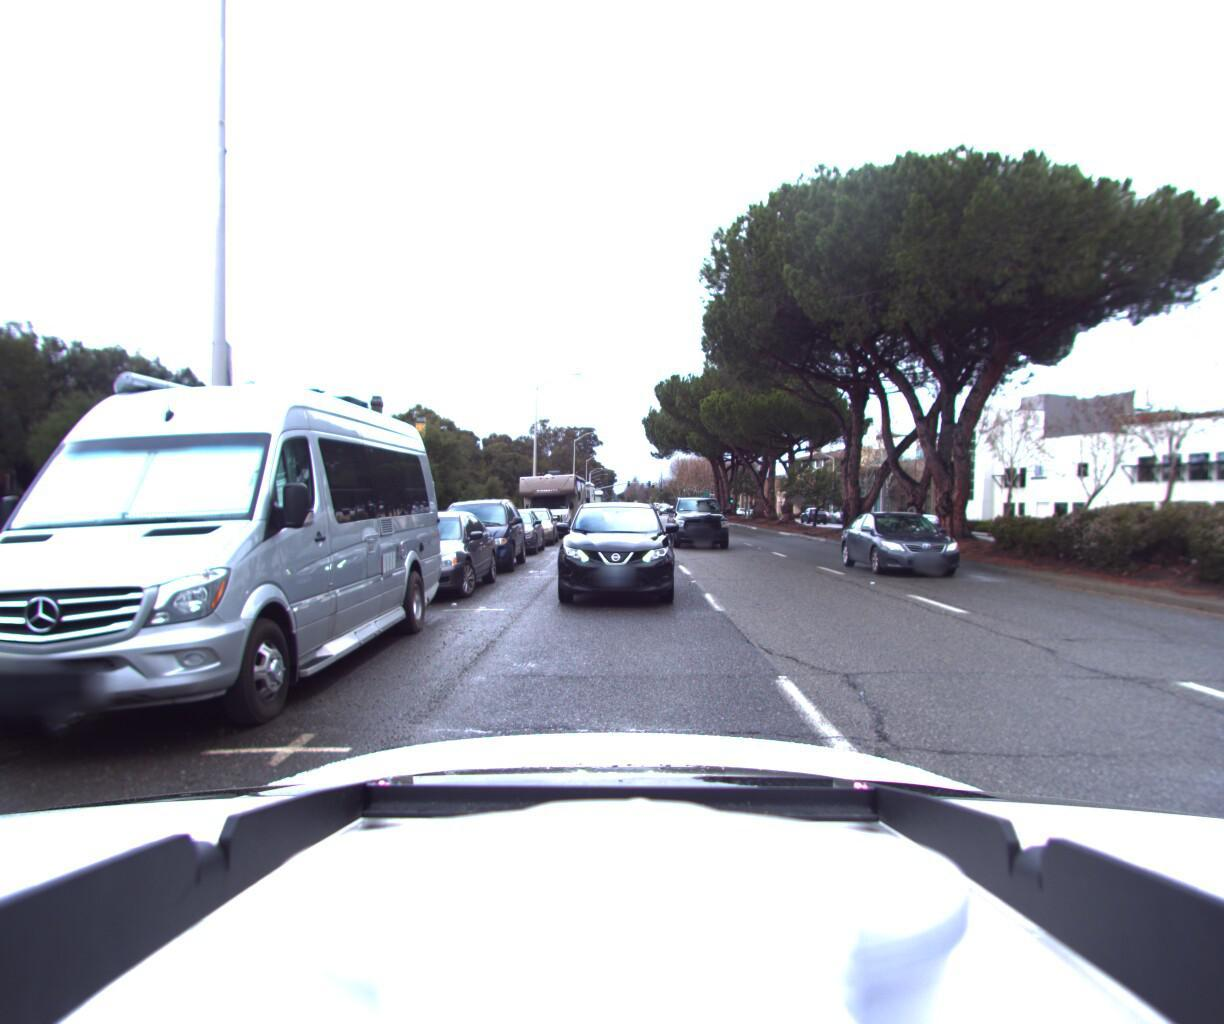car: (334, 506, 503, 608), (549, 501, 674, 612), (846, 513, 989, 586), (415, 486, 531, 573), (665, 493, 734, 552), (474, 503, 547, 555), (502, 501, 560, 546)
other_vehicle: (510, 465, 587, 537), (539, 469, 595, 531), (574, 482, 603, 521)
